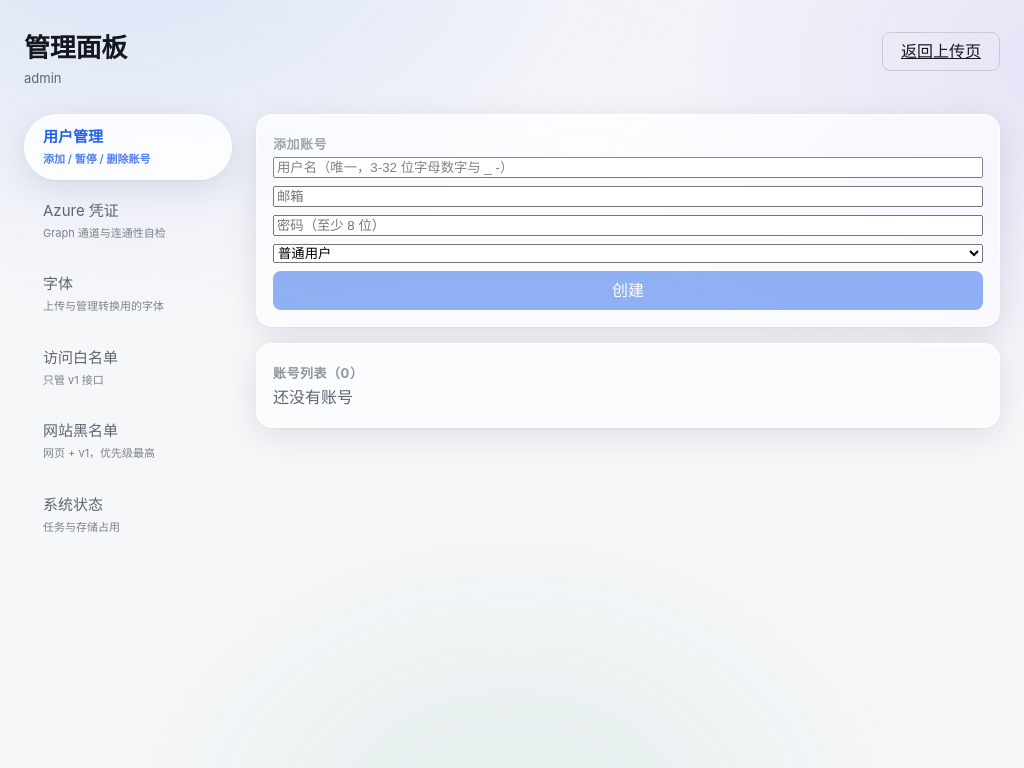
Scenario: AdminPage 的侧边栏 › 黑名单面板说清它比白名单优先、且网页也拦
Check: the heading "管理面板" is shown, box [24,32,127,64]
Click the button "网站黑名单 网页 + v1，优先级最高" at (128, 441), box [24,408,232,474]
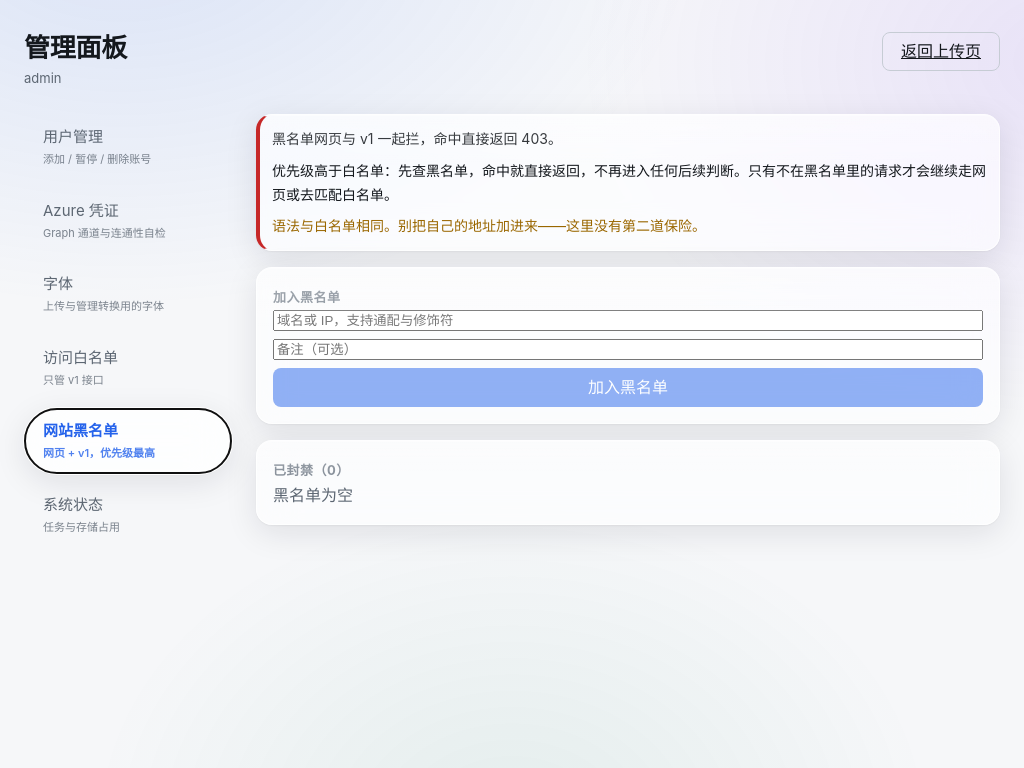
Check: the text "黑名单网页与 v1 一起拦，命中直接返回 403。" is shown, box [272,130,562,147]
Check: the text "优先级高于白名单：先查黑名单，命中就直接返回，不再进入任何后续判断。只有不在黑名单里的请求才会继续走网页或去匹配白名单。" is shown, box [272,159,987,206]
